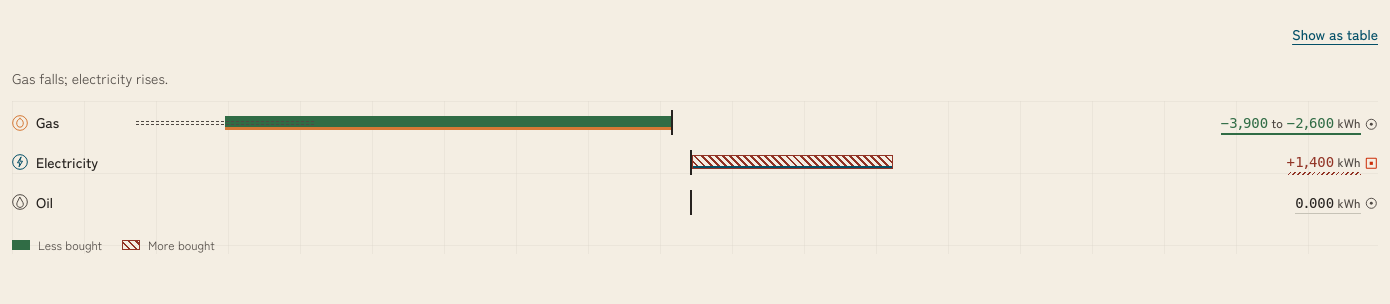
Test case: FuelBars › splits savings left and increases right, with a table toggle
Click the button "Show as table" at (1333, 34), box [1288,12,1378,56]
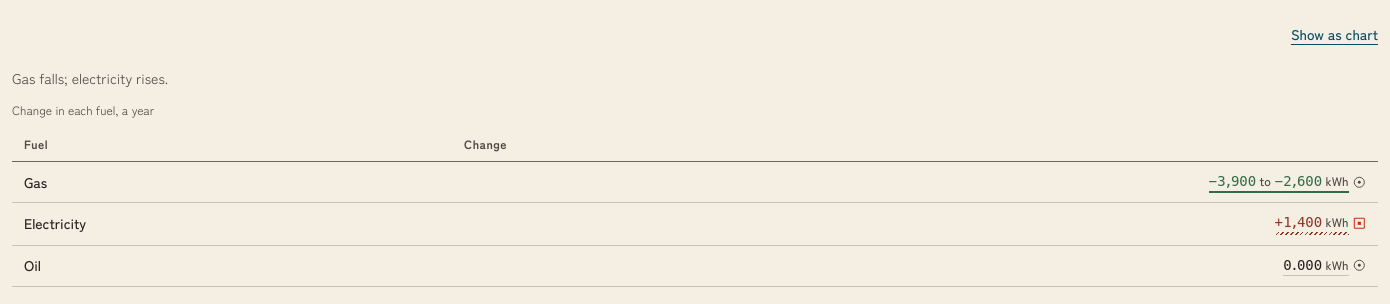
Expected: the table is shown
